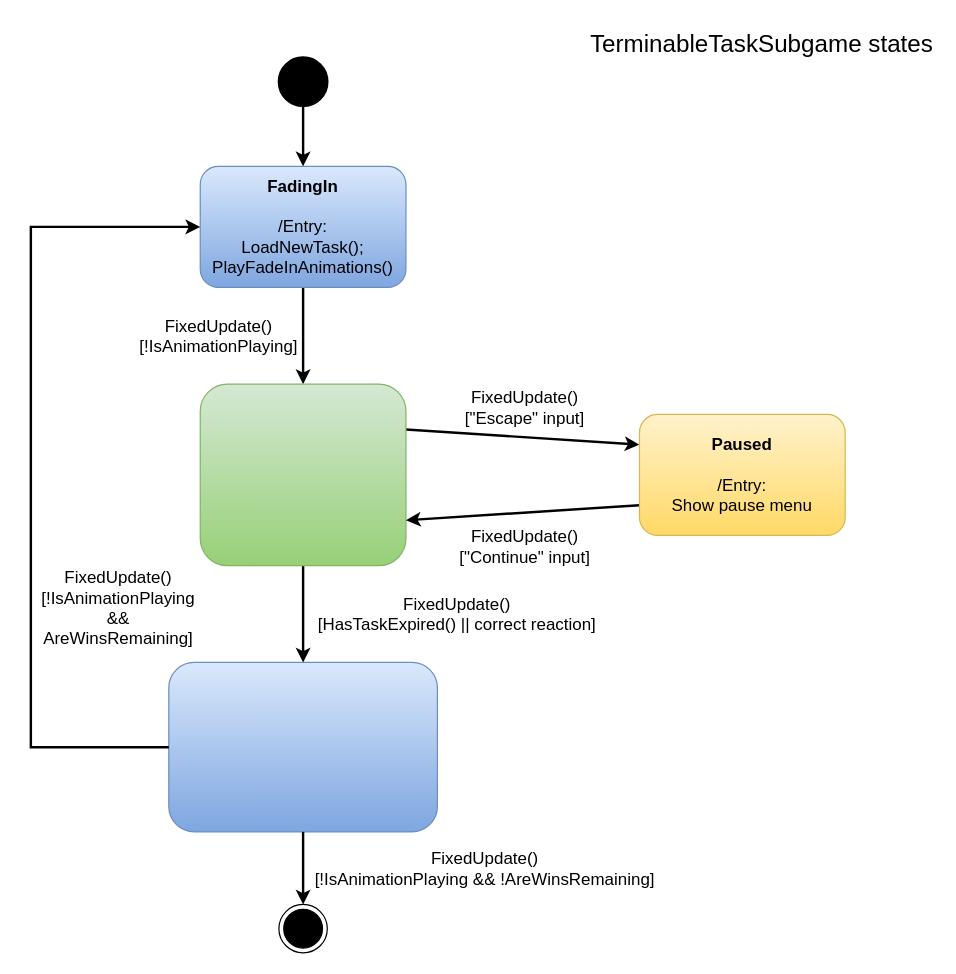
The diagram is 956 pixels wide and 974 high, and some of its shapes have lost their labels. The centre of each missing label's shape, as x and y in pixels:
"Active /Entry: InitTaskTimers(); ReleaseTaskTimer() /Exit: LockTaskTimer()" belongs at (x=302, y=474).
"FadingOut /Entry: PlayFadeOutAnimations() /Exit: GameManager.ResetPlayerUIs()" belongs at (x=302, y=746).
